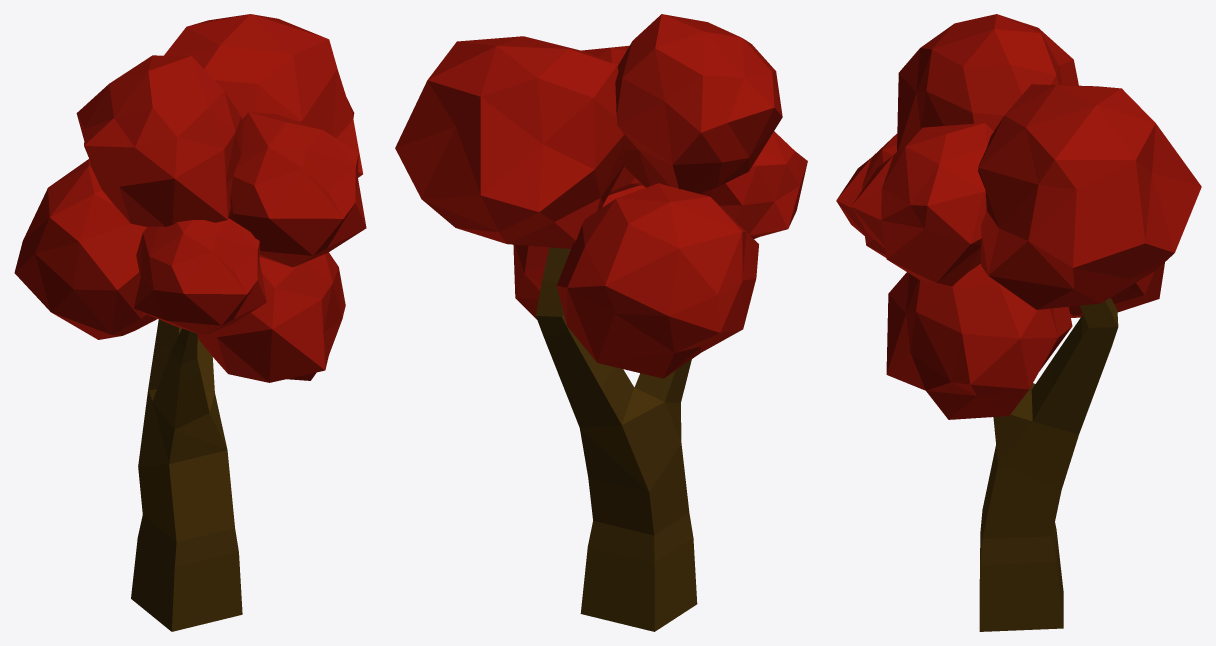
File: tree8.fbx
The picture shows the model from 3 angles, left to right: view 1: azimuth 30°, elevation 25°; view 2: azimuth 150°, elevation 25°; view 3: azimuth 270°, elevation 25°; orthographic projection. The views are drawn at different scales.
Visible parts, largest first — view 1: Icosphere; view 2: Icosphere; view 3: Icosphere.
Boxes of the visible parts, x1,y1,x2,y2 form: Icosphere: [14, 14, 366, 631]; Icosphere: [395, 14, 807, 631]; Icosphere: [836, 14, 1201, 631].
Bounding box in the file's own units: 46.11 × 78.19 × 44.61.
